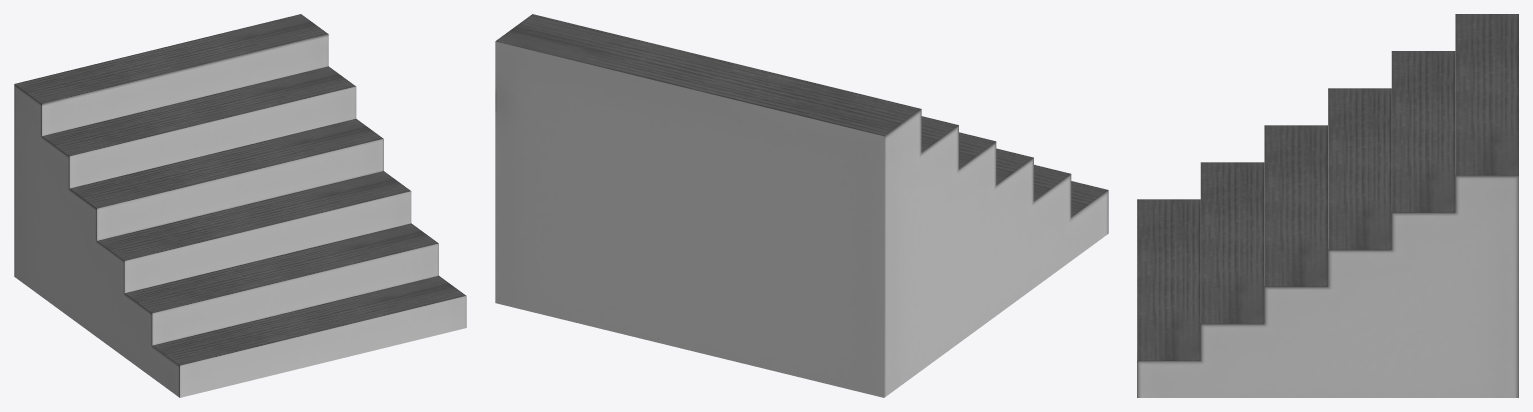
File: StairsFlt2x2x1_5Bloc.gltf
3 views of the same model, side by side, from view 1: azimuth 30°, elevation 25°; view 2: azimuth 150°, elevation 25°; view 3: azimuth 270°, elevation 25° (orthographic). The views are drawn at different scales.
Parts seen in each view (by area): view 1: StairsFlt2x2x1_5BlocShape; view 2: StairsFlt2x2x1_5BlocShape; view 3: StairsFlt2x2x1_5BlocShape.
Boxes of the visible parts, left/top/right/bottom form: StairsFlt2x2x1_5BlocShape: left=14, top=14, right=466, bottom=397; StairsFlt2x2x1_5BlocShape: left=495, top=14, right=1108, bottom=397; StairsFlt2x2x1_5BlocShape: left=1137, top=14, right=1518, bottom=397.
Bounding box in the file's own units: 2 × 1.29 × 2.
